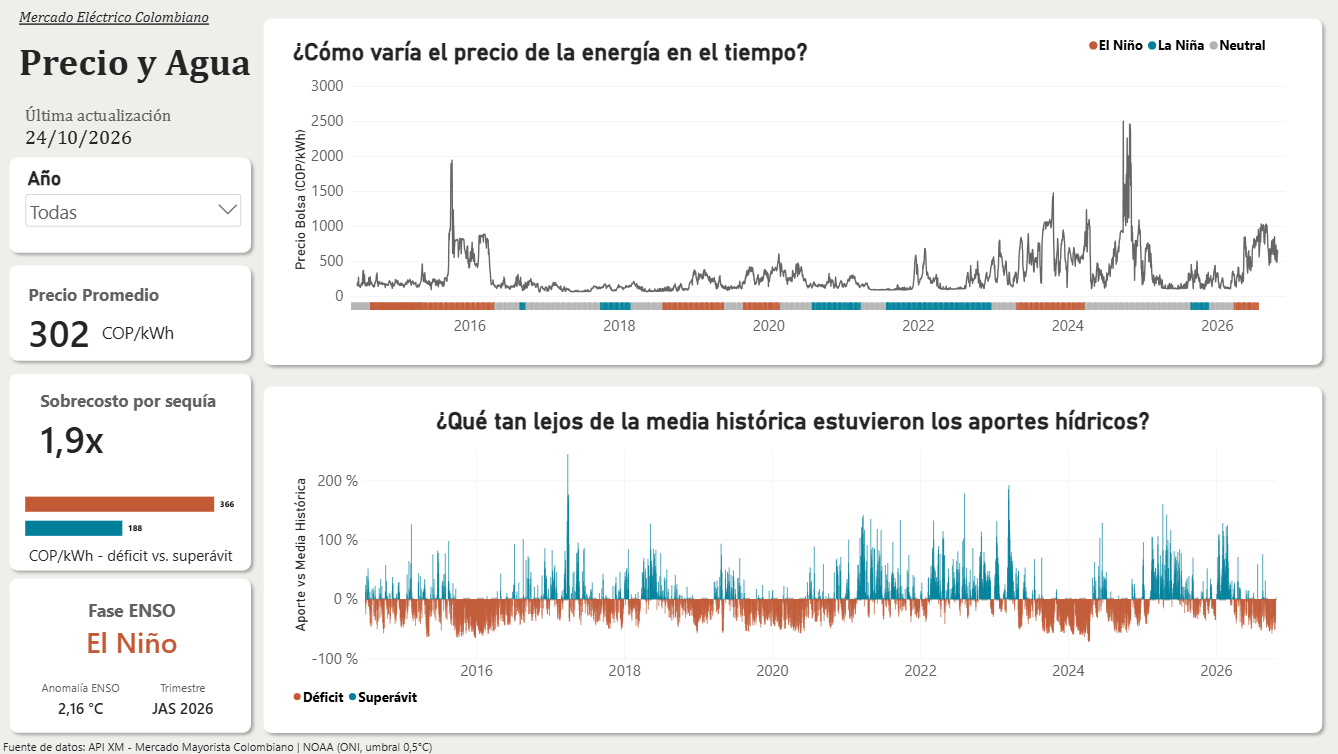

Layout of this report page (visuals, bound fields, positions):
{"tool":"powerbi","page":{"name":"Precio y Aporte Energía","canvas":[1920,1080],"ordinal":2},"visuals":[{"type":"shape","box":[6.8,372.5,363.4,154.4],"z":0,"group":"g1"},{"type":"shape","box":[6.8,526.9,363.4,299.8],"z":0,"group":"g2"},{"type":"shape","box":[370.2,545.1,1530.9,513.3],"z":0},{"type":"shape","box":[370.2,20.4,1530.9,513.3],"z":1000},{"type":"cardVisual","fields":{"Data":["_Medidas.Precio Promedio"]},"box":[27.2,392.9,304.4,134],"z":1000,"group":"g1"},{"type":"cardVisual","fields":{"Data":["_Medidas.Compa Precio SECA"]},"box":[43.6,545.1,285.5,131.7],"z":1000,"group":"g2"},{"type":"columnChart","fields":{"Category":["star dim_fecha.fecha"],"Y":["_Medidas.Banda Niño","_Medidas.Banda Niña","_Medidas.Banda Neutral"]},"box":[428.8,35.4,1404.3,440.6],"z":2000},{"type":"textbox","box":[147.6,461.1,145.4,70.4],"z":2000,"group":"g1"},{"type":"clusteredBarChart","fields":{"Y":["_Medidas.Precio Niño","_Medidas.Precio Niña"]},"box":[21.9,676.8,331,120.4],"z":2000,"group":"g2"},{"type":"lineChart","title":"¿Cómo varía el precio de la energía en el tiempo?","fields":{"Category":["star dim_fecha.fecha"],"Y":["_Medidas.Precio Promedio"]},"box":[404.3,43.2,1462.7,461.1],"z":3000},{"type":"textbox","box":[43.6,781.3,309.3,70.4],"z":3000,"group":"g2"},{"type":"shape","box":[6.8,218,363.4,154.4],"z":4000},{"type":"shape","box":[6.8,819.9,363.4,238.5],"z":5000},{"type":"clusteredColumnChart","title":"¿Qué tan lejos de la media histórica estuvieron los aportes hídricos?","fields":{"Category":["star dim_fecha.fecha"],"Y":["_Medidas.Déficit","_Medidas.Superávit"]},"box":[404.3,570.1,1462.7,461.1],"z":6000},{"type":"slicer","fields":{"Values":["star dim_fecha.fecha.Variation.Date Hierarchy.Year"]},"box":[34.1,240.8,318,109],"z":7000},{"type":"cardVisual","fields":{"Data":["_Medidas.Fase ENSO"]},"box":[29.5,844.9,322.5,193.1],"z":8000},{"type":"textbox","box":[29.5,13.6,354.3,136.3],"z":9000},{"type":"group","id":"g1","title":"Group 1","box":[6.8,372.5,363.4,159],"z":10000},{"type":"group","id":"g2","title":"Group 2","box":[6.8,526.9,363.4,324.8],"z":11000},{"type":"cardVisual","fields":{"Data":["_Medidas.Última actualización"]},"box":[22.7,149.9,329.3,68.1],"z":12000},{"type":"textbox","box":[7,372,363,161],"z":13000},{"type":"textbox","box":[7.4,1058,793.4,21.3],"z":14000}]}

Visuals, with their boxes in screenshot pixels (x1, y1, x2, y2), scaled from the page's 1920x1080 canvas onto the 1338x754 screenshot:
shape: [5,260,258,368]
shape: [5,368,258,577]
shape: [258,381,1325,739]
shape: [258,14,1325,373]
cardVisual - _Medidas.Precio Promedio: [19,274,231,368]
cardVisual - _Medidas.Compa Precio SECA: [30,381,229,473]
columnChart - star dim_fecha.fecha x _Medidas.Banda Niño: [299,25,1277,332]
textbox: [103,322,204,371]
clusteredBarChart - _Medidas.Precio Niño x _Medidas.Precio Niña: [15,473,246,557]
"¿Cómo varía el precio de la energía en el tiempo?" lineChart: [282,30,1301,352]
textbox: [30,545,246,595]
shape: [5,152,258,260]
shape: [5,572,258,739]
"¿Qué tan lejos de la media histórica estuvieron los aportes hídricos?" clusteredColumnChart: [282,398,1301,720]
slicer - star dim_fecha.fecha.Variation.Date Hierarchy.Year: [24,168,245,244]
cardVisual - _Medidas.Fase ENSO: [21,590,245,725]
textbox: [21,9,267,105]
"Group 1" group: [5,260,258,371]
"Group 2" group: [5,368,258,595]
cardVisual - _Medidas.Última actualización: [16,105,245,152]
textbox: [5,260,258,372]
textbox: [5,739,558,753]
